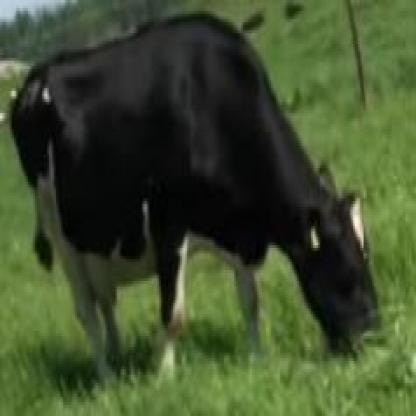cow: (15, 18, 380, 384)
